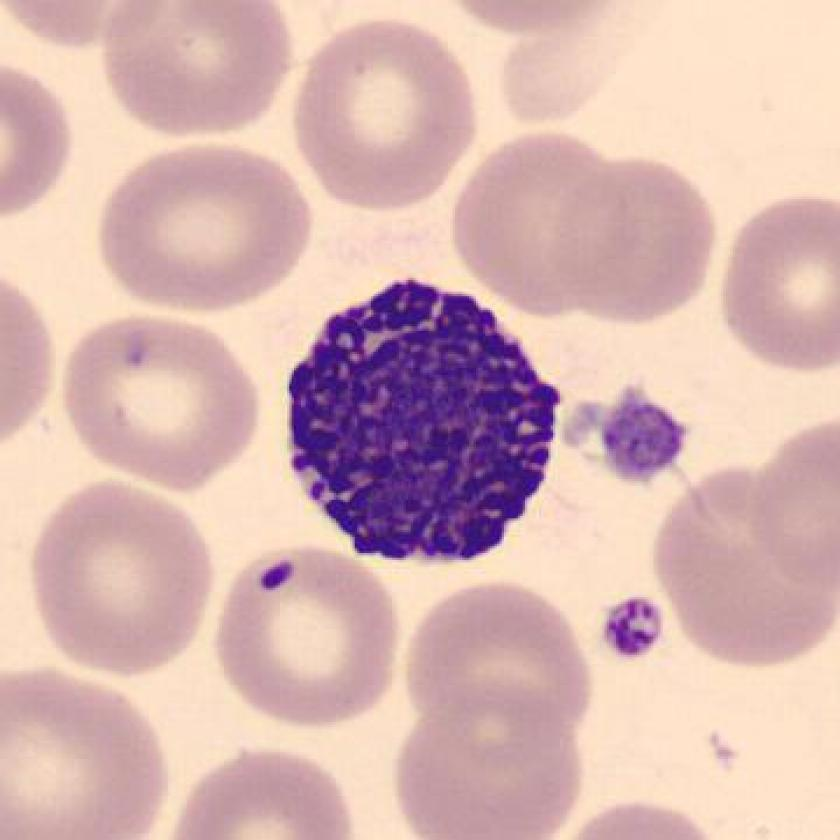basophil: (272, 265, 582, 573)
